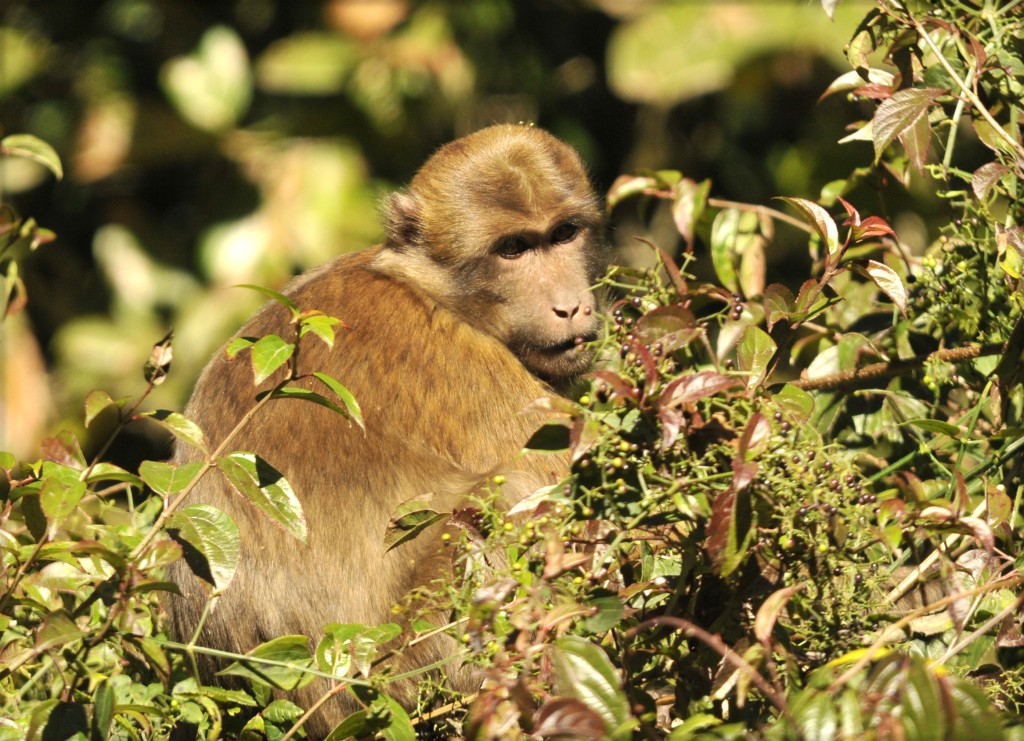monkey: (140, 111, 625, 732)
